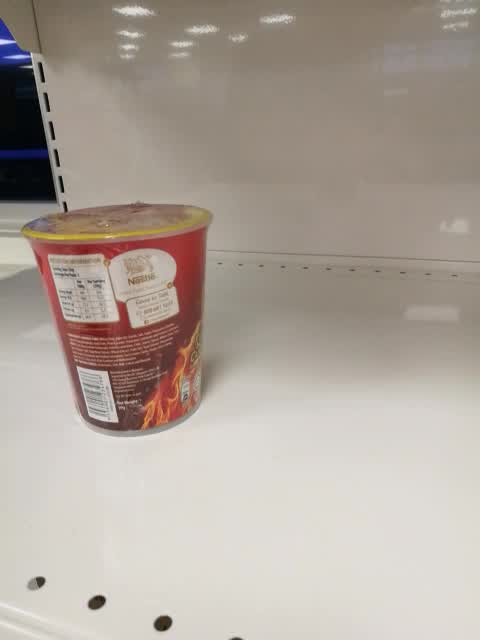maggi: (21, 203, 214, 439)
